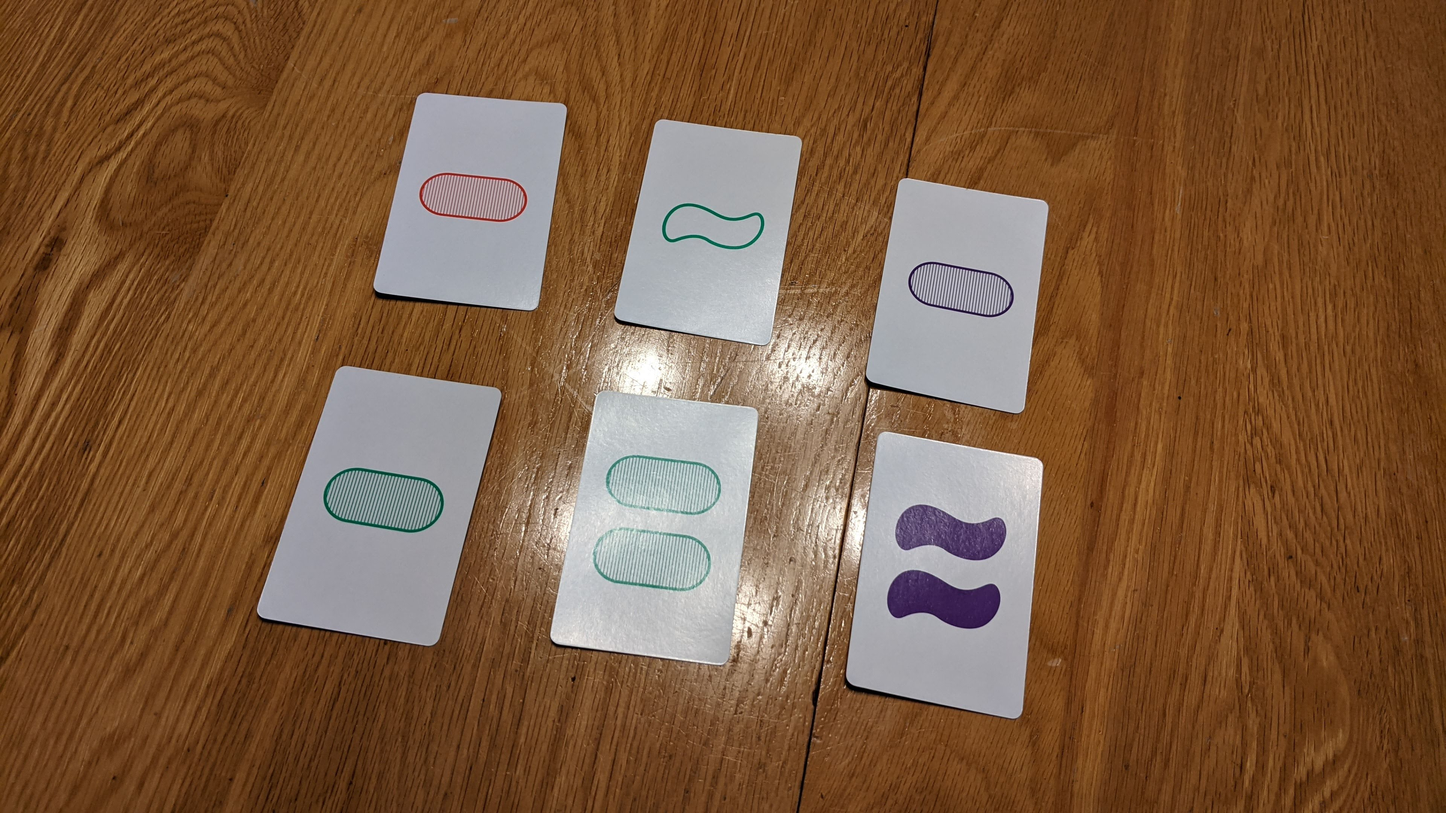card: (257, 366, 502, 645), (844, 432, 1046, 720), (550, 393, 762, 665), (613, 118, 803, 347), (866, 178, 1049, 414), (374, 91, 568, 311)
